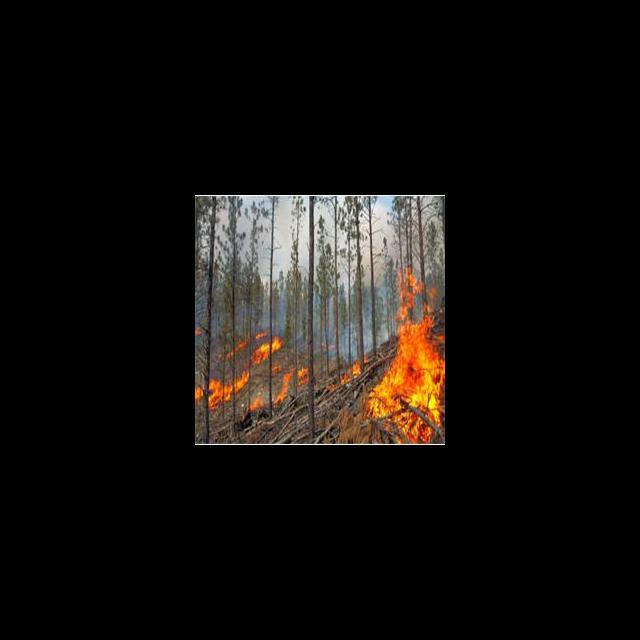Fire: (361, 265, 444, 444), (195, 329, 307, 414), (324, 354, 368, 394)
